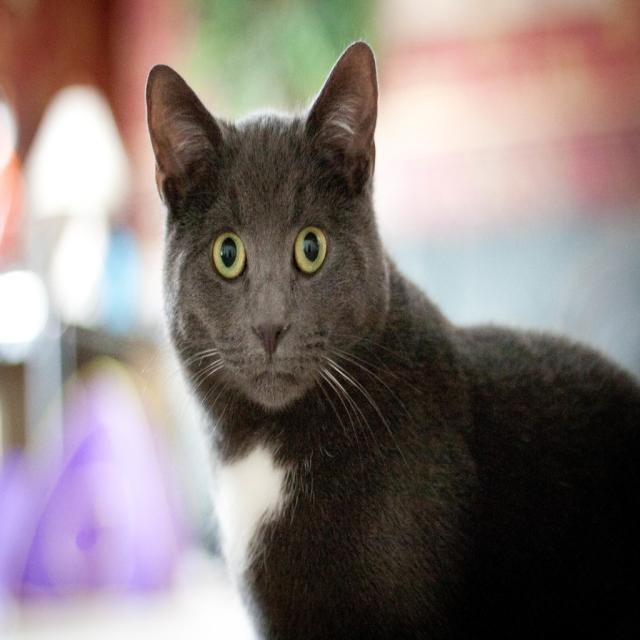Cat: (145, 39, 640, 639)
